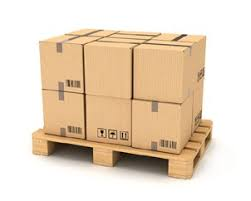box: (133, 45, 181, 104), (83, 44, 132, 99), (132, 98, 179, 154), (38, 38, 84, 94), (85, 94, 131, 147), (40, 89, 85, 140)
pallet: (30, 116, 213, 182)
